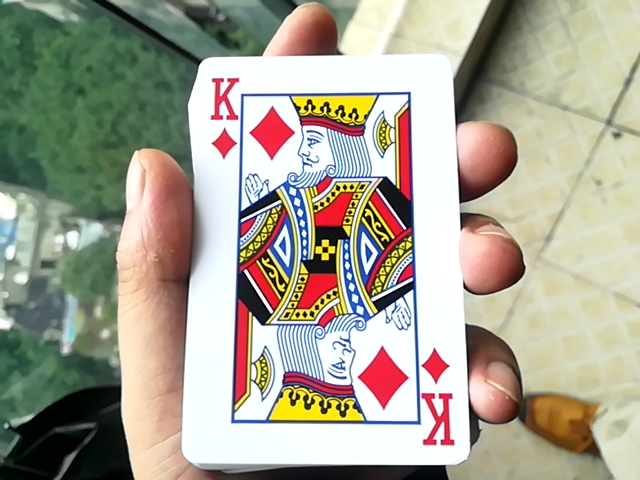fk k: (165, 37, 471, 462)
